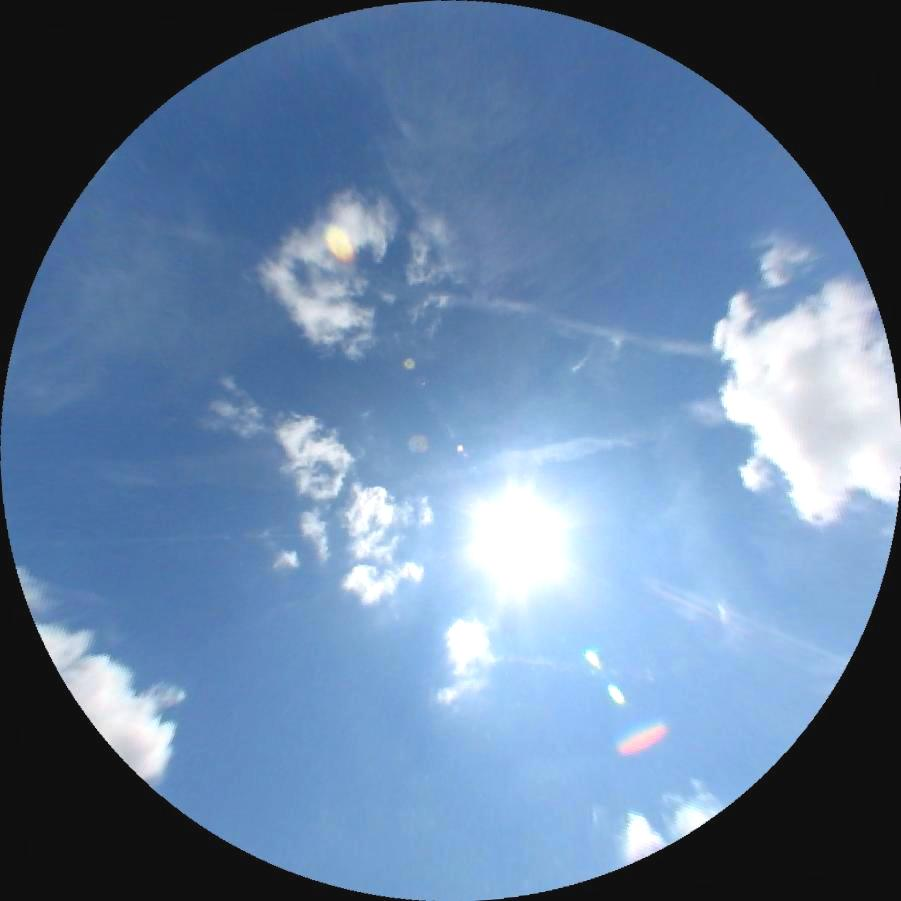contrail veryold: (447, 288, 717, 362), (390, 426, 637, 493)
parasite: (12, 530, 302, 546)
sun: (491, 501, 557, 562)
